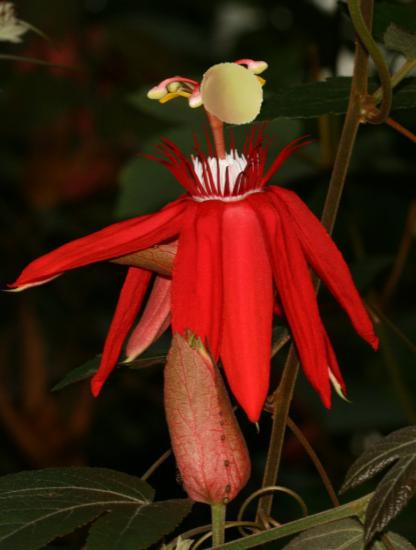Peach: (198, 59, 267, 128)
